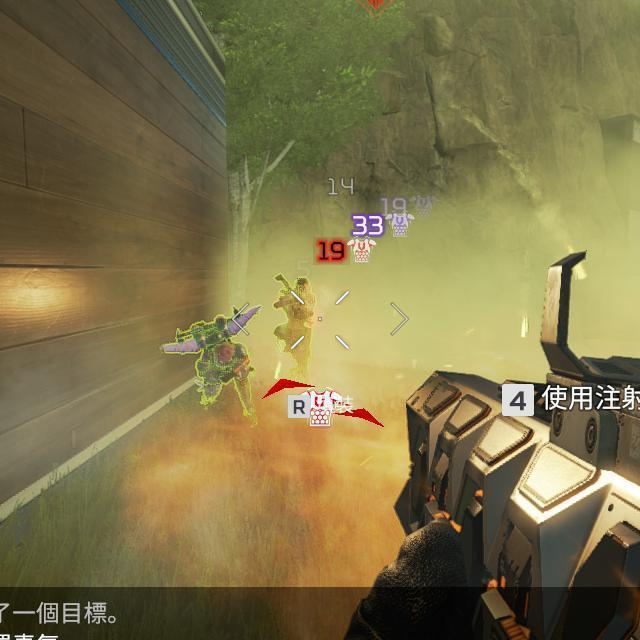avatar: (270, 273, 320, 379), (194, 340, 257, 424)
